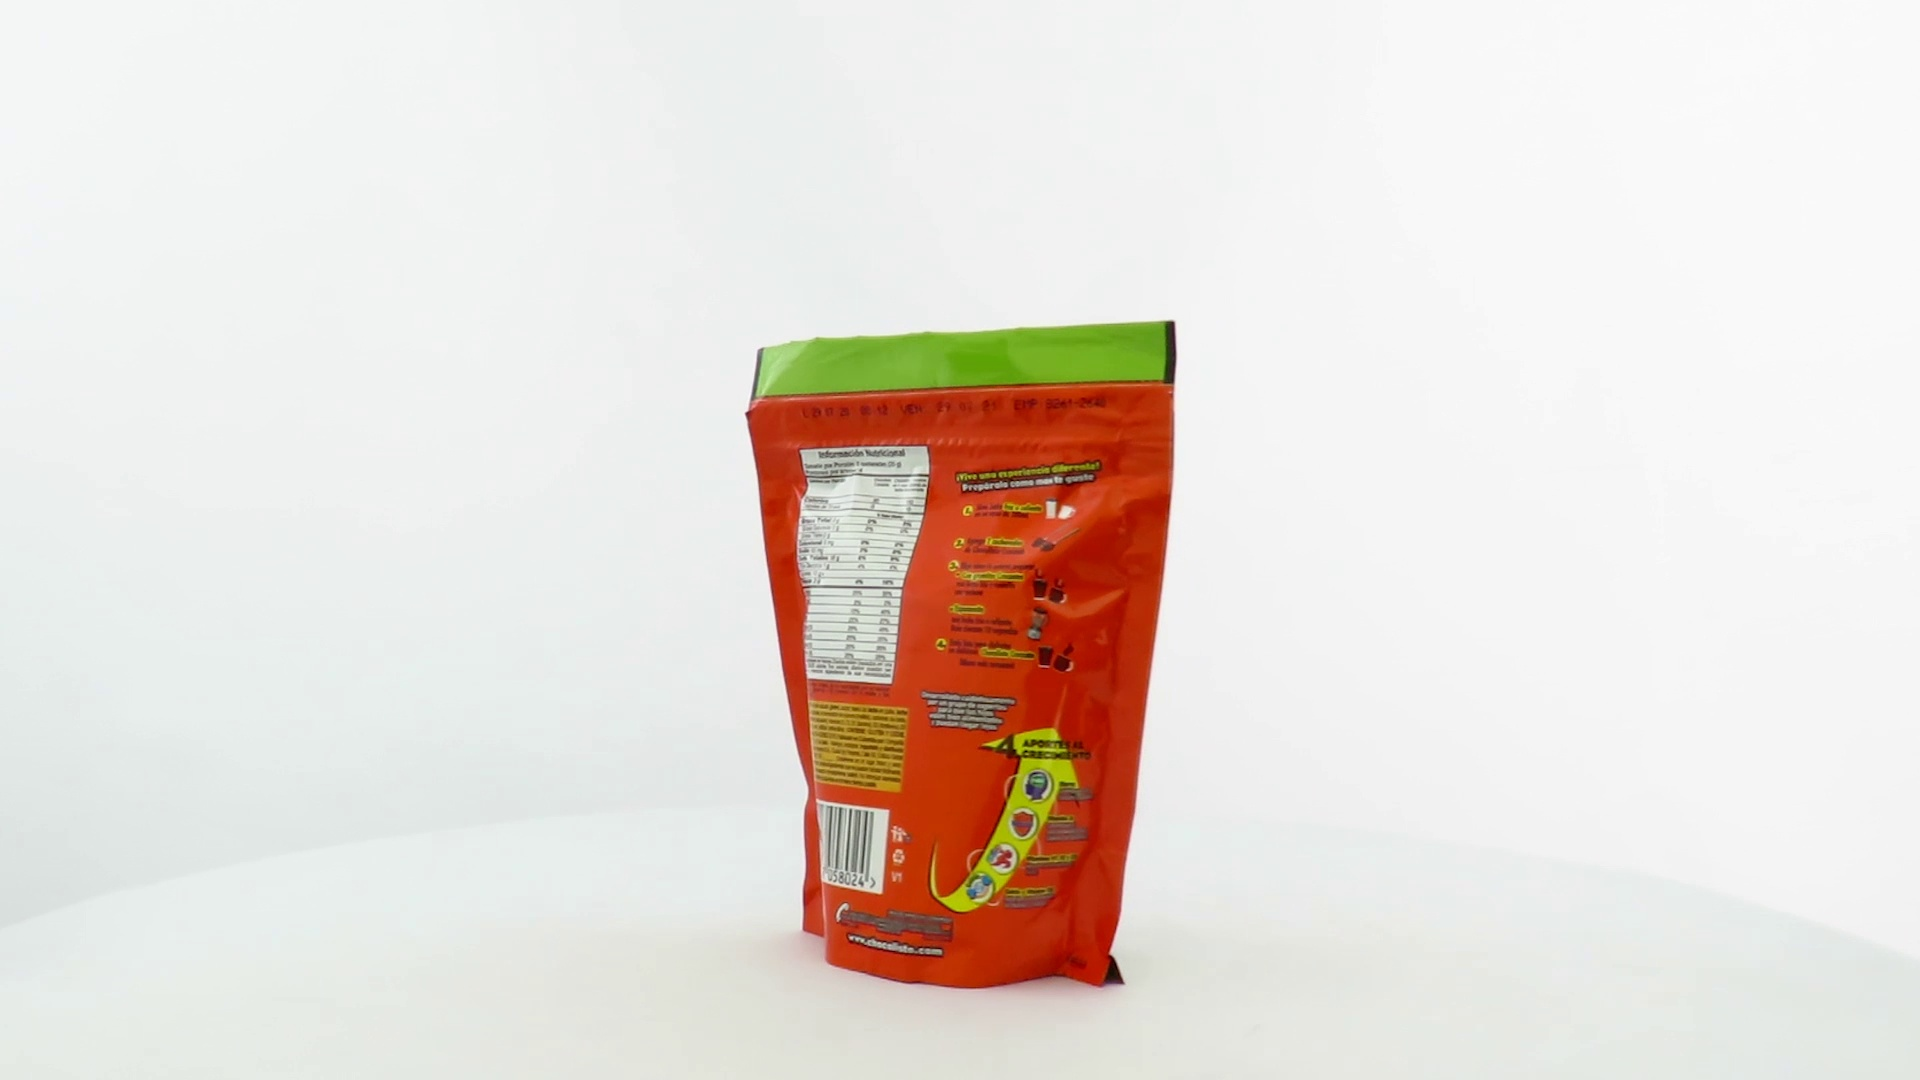COL0170102DYP10000: (740, 315, 1183, 996)
